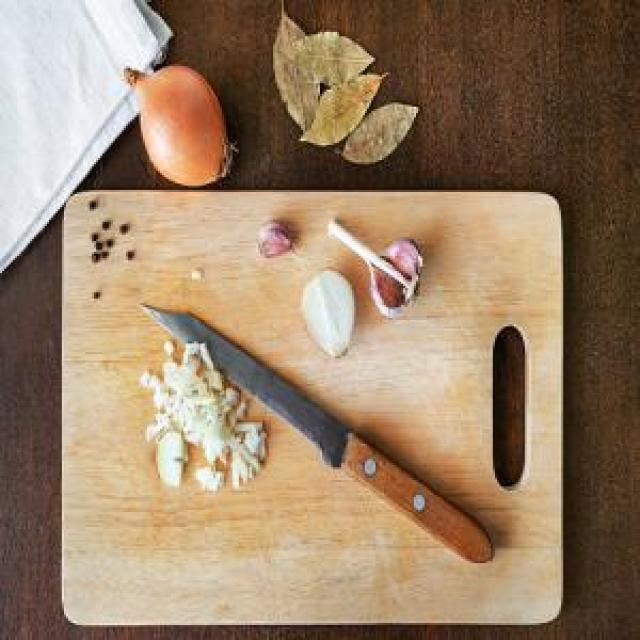knife: (135, 294, 498, 572)
